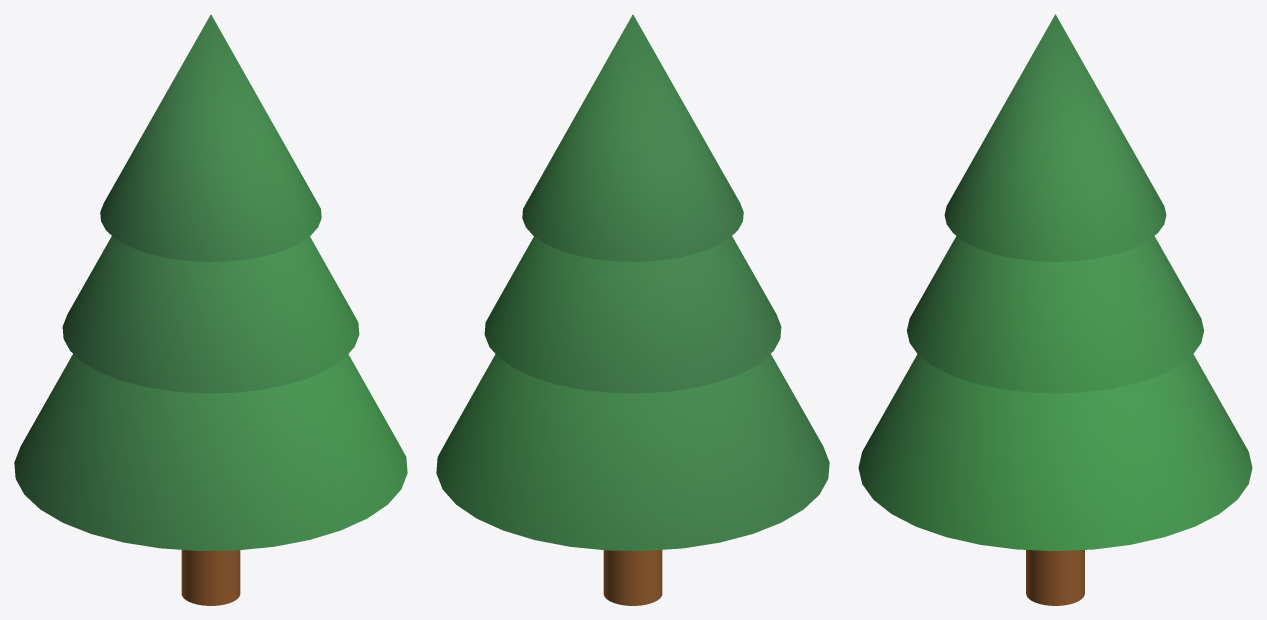
File: tree.fbx
3 renders of one model, left to right at view 1: azimuth 30°, elevation 25°; view 2: azimuth 150°, elevation 25°; view 3: azimuth 270°, elevation 25°, orthographic.
Parts seen in each view (by area): view 1: Tree-01.007; view 2: Tree-01.007; view 3: Tree-01.007.
Boxes of the visible parts, bbox=[...] form: Tree-01.007: bbox=[14, 14, 407, 605]; Tree-01.007: bbox=[436, 14, 829, 605]; Tree-01.007: bbox=[858, 14, 1252, 605].
Size of the model in its own units: 269 by 436 by 269.
